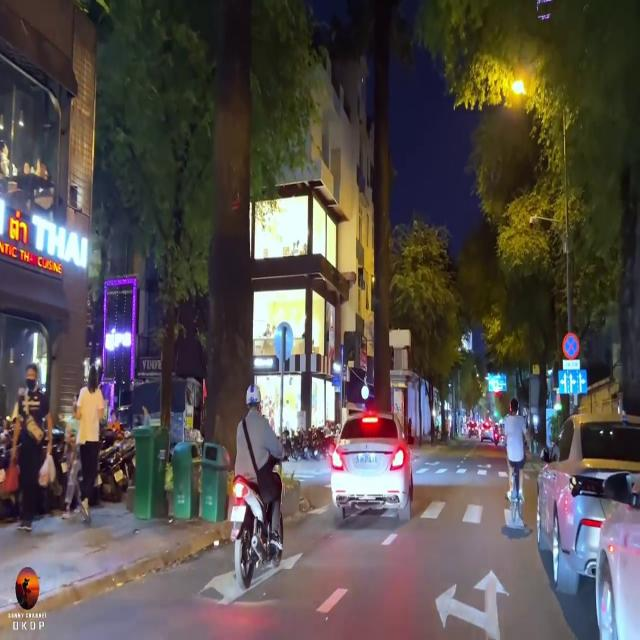bien_trang: (356, 454, 379, 466)
